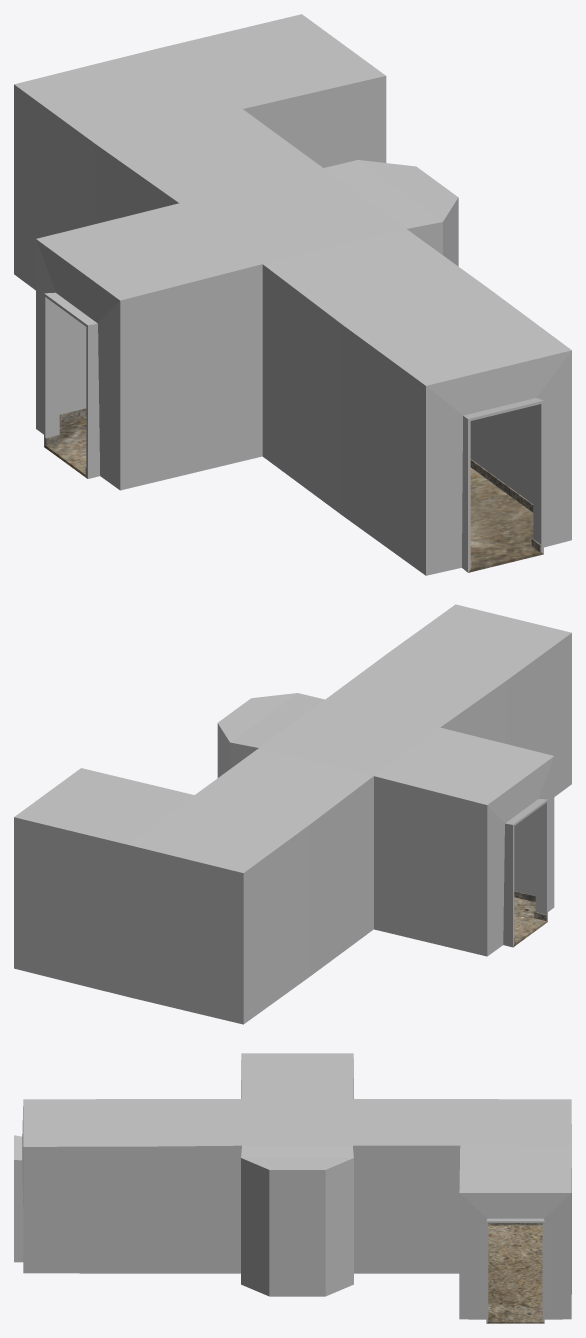
Rendered from Hallway_1.fbx.
3 renders of one model, top to bottom at view 1: azimuth 30°, elevation 25°; view 2: azimuth 150°, elevation 25°; view 3: azimuth 270°, elevation 25°, orthographic. The views are drawn at different scales.
Parts seen in each view (by area): view 1: Hallway_1; view 2: Hallway_1; view 3: Hallway_1.
Part boxes in pixels (<box>): Hallway_1: <box>14,14,571,575</box>; Hallway_1: <box>14,604,571,1024</box>; Hallway_1: <box>14,1053,571,1323</box>.
Size of the model in its own units: 640 by 259 by 1024.
